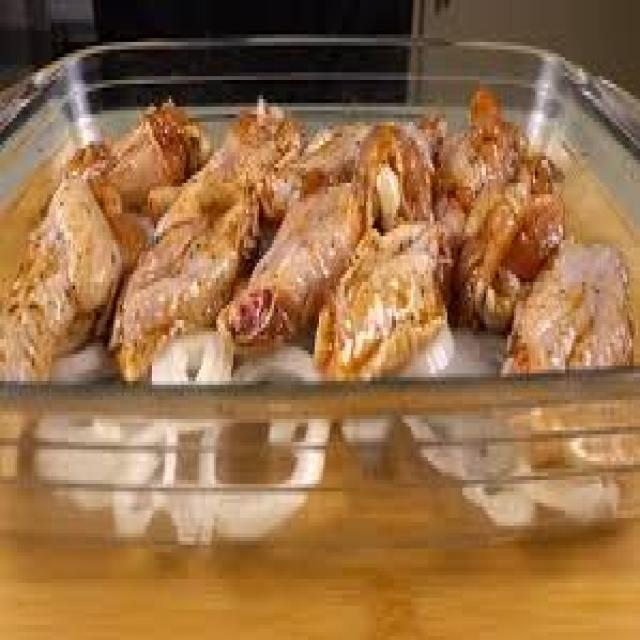Chicken Wings: (17, 80, 629, 350)
Onion Rings: (11, 320, 638, 533)
